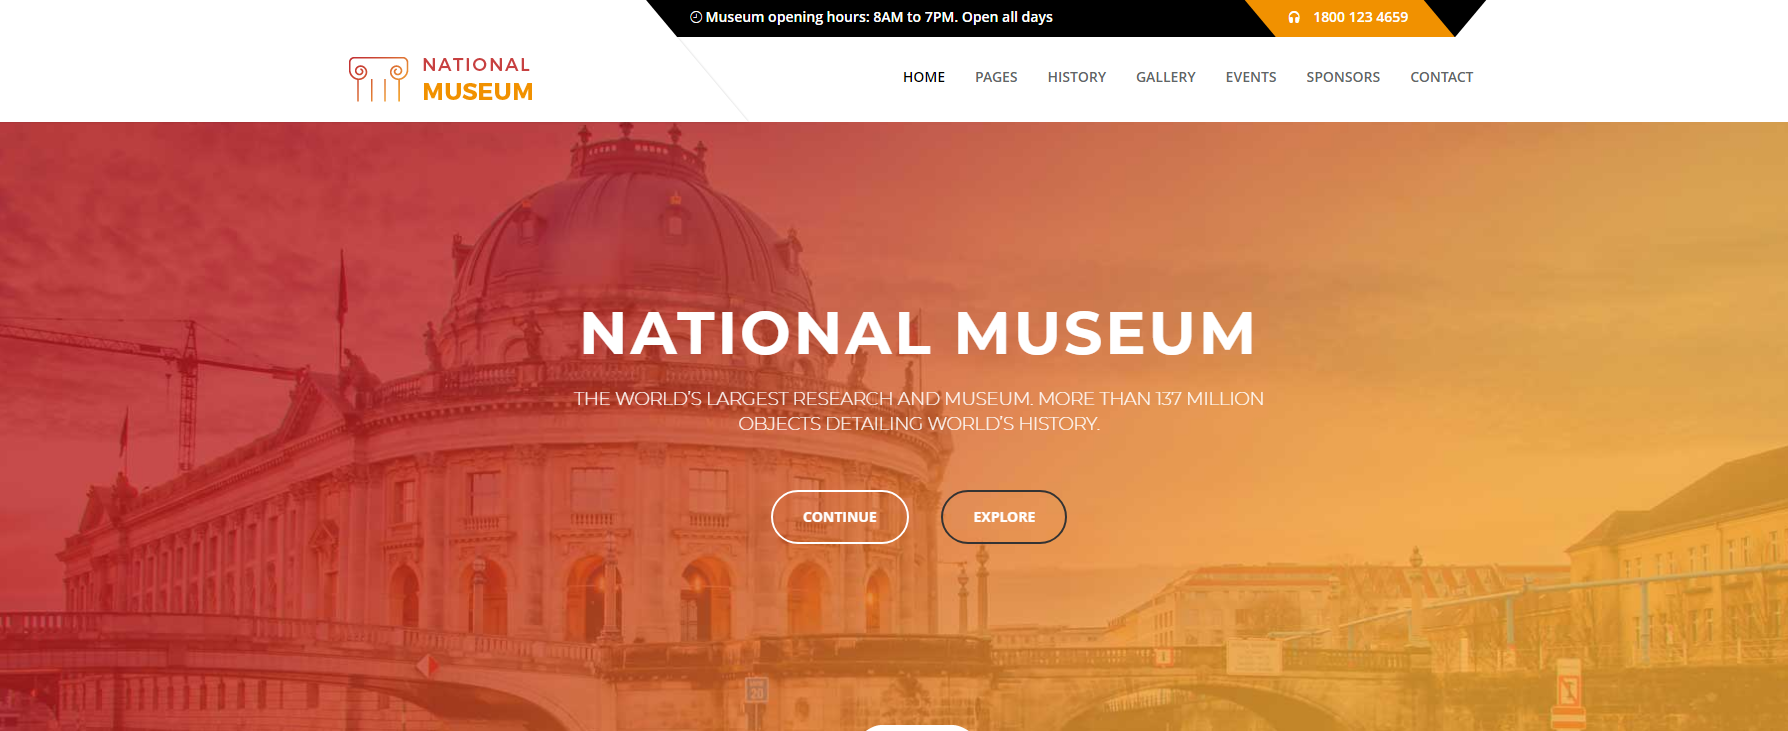menu: (31, 10, 1769, 169)
